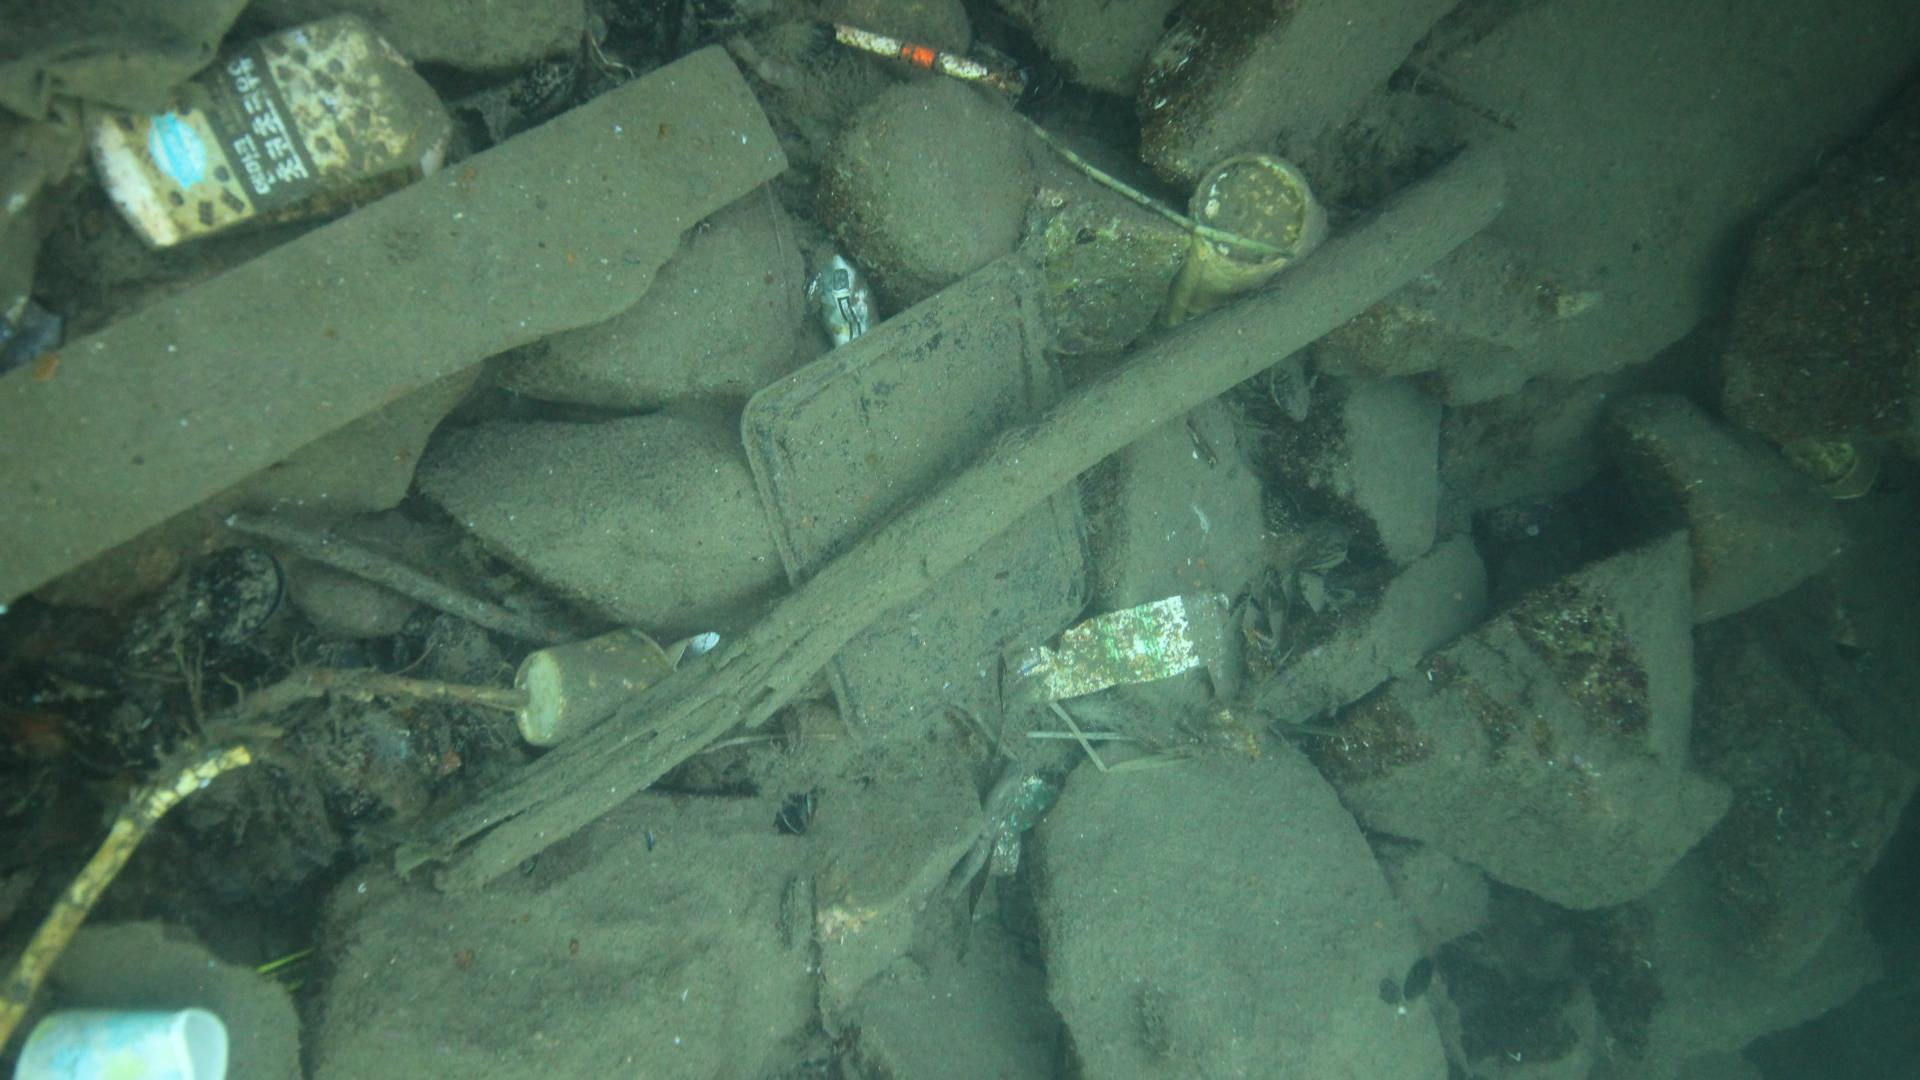wood: (390, 136, 1509, 891)
